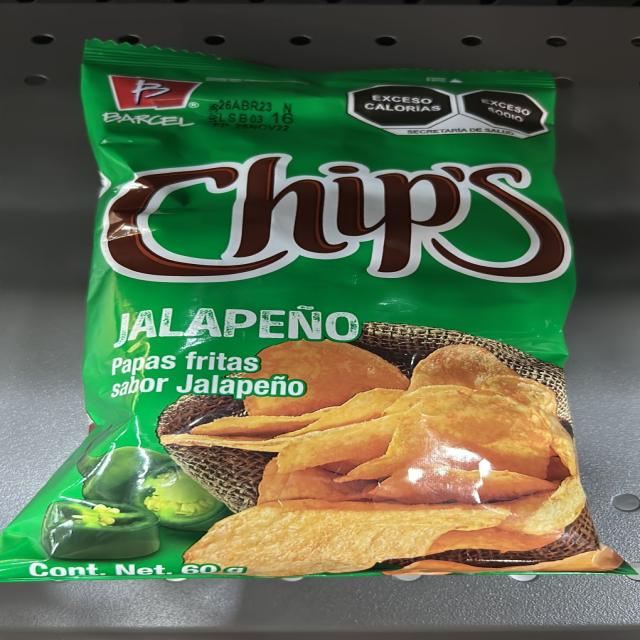chipsJalapeno: (91, 54, 558, 575)
